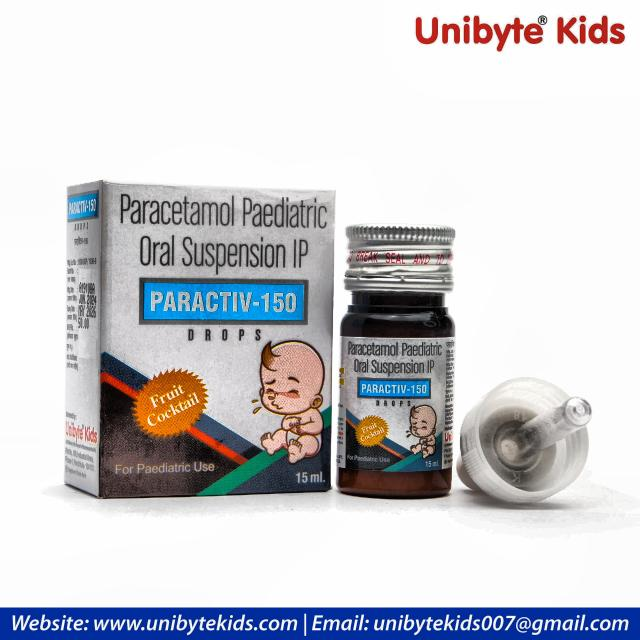Paracetamol: (109, 184, 332, 249)
